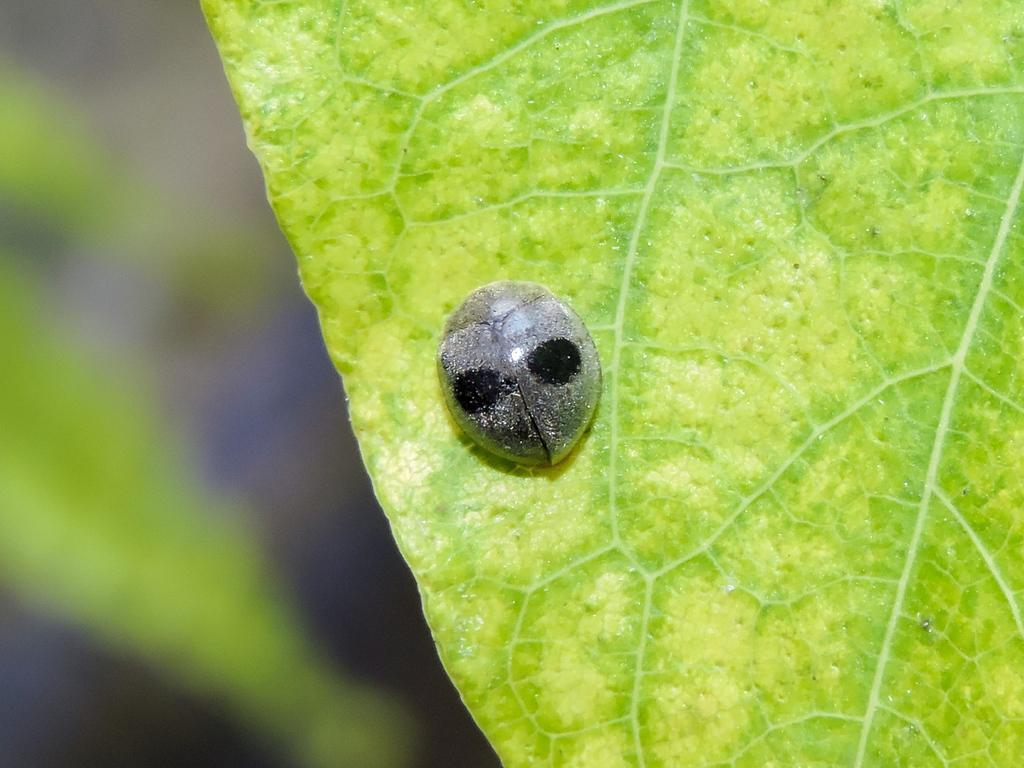ladybug: (435, 277, 607, 471)
